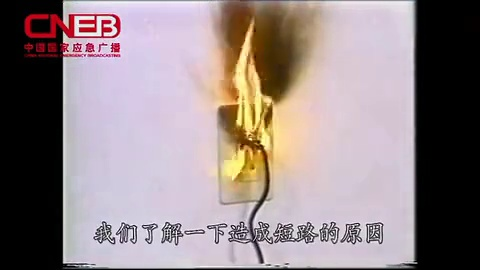fire: (226, 13, 277, 184)
